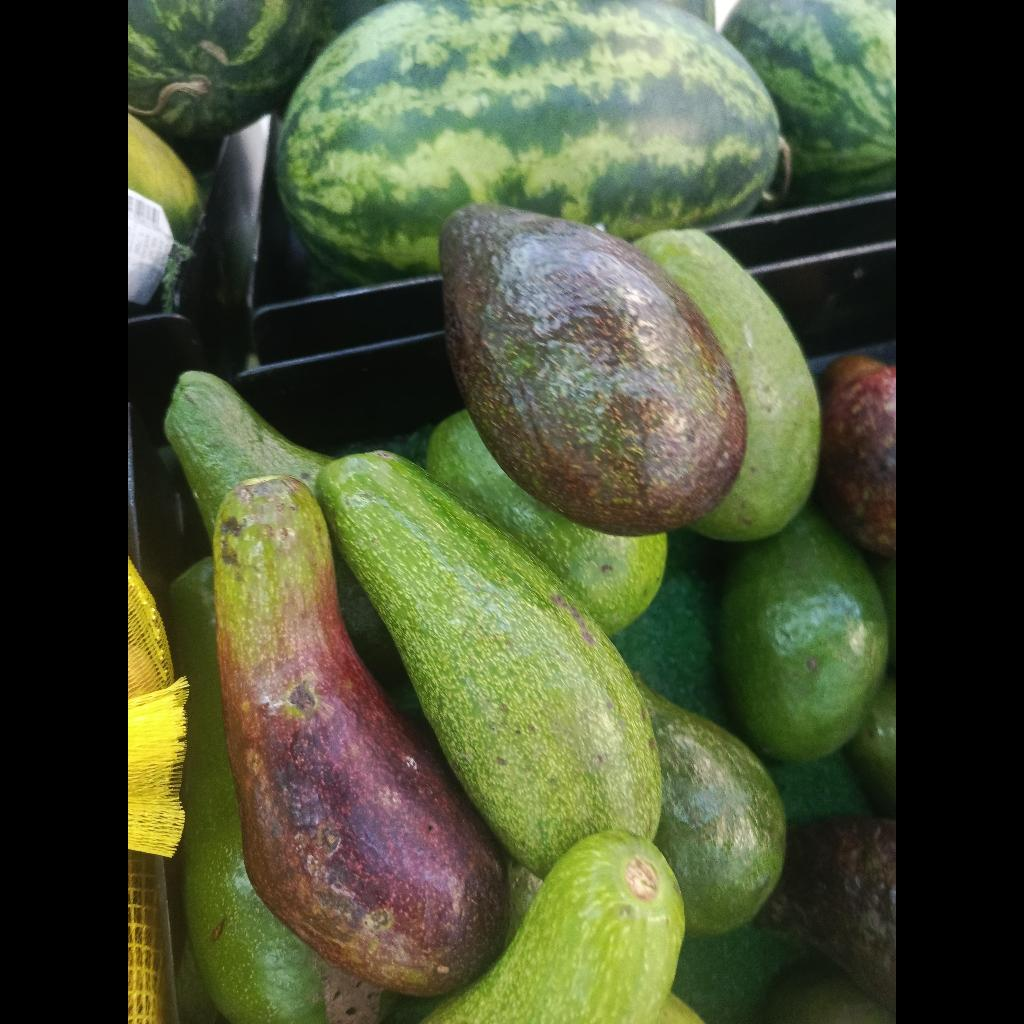rona: (213, 475, 509, 995)
